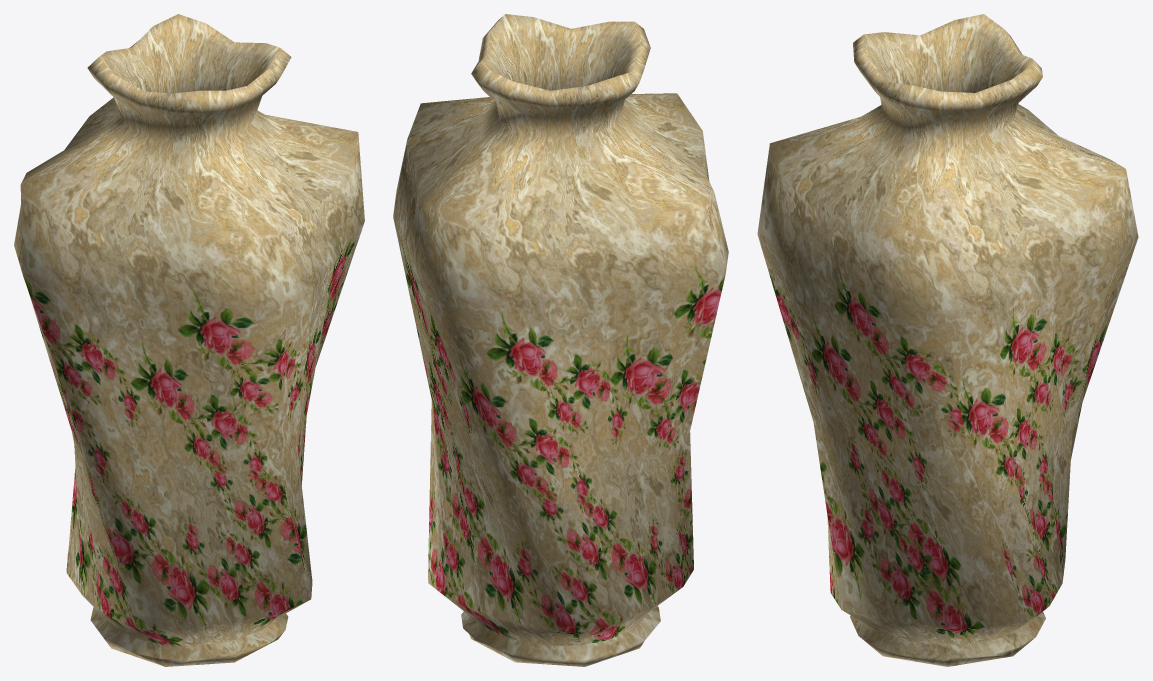
File: JVase_41.fbx
3 views of the same model, side by side, from view 1: azimuth 30°, elevation 25°; view 2: azimuth 150°, elevation 25°; view 3: azimuth 270°, elevation 25° (orthographic).
Parts seen in each view (by area): view 1: JVase_41; view 2: JVase_41; view 3: JVase_41.
Boxes of the visible parts, <box> form: JVase_41: <box>14,14,364,666</box>; JVase_41: <box>393,14,728,666</box>; JVase_41: <box>757,14,1138,666</box>.
Bounding box in the file's own units: 52.59 × 88.19 × 52.6.
